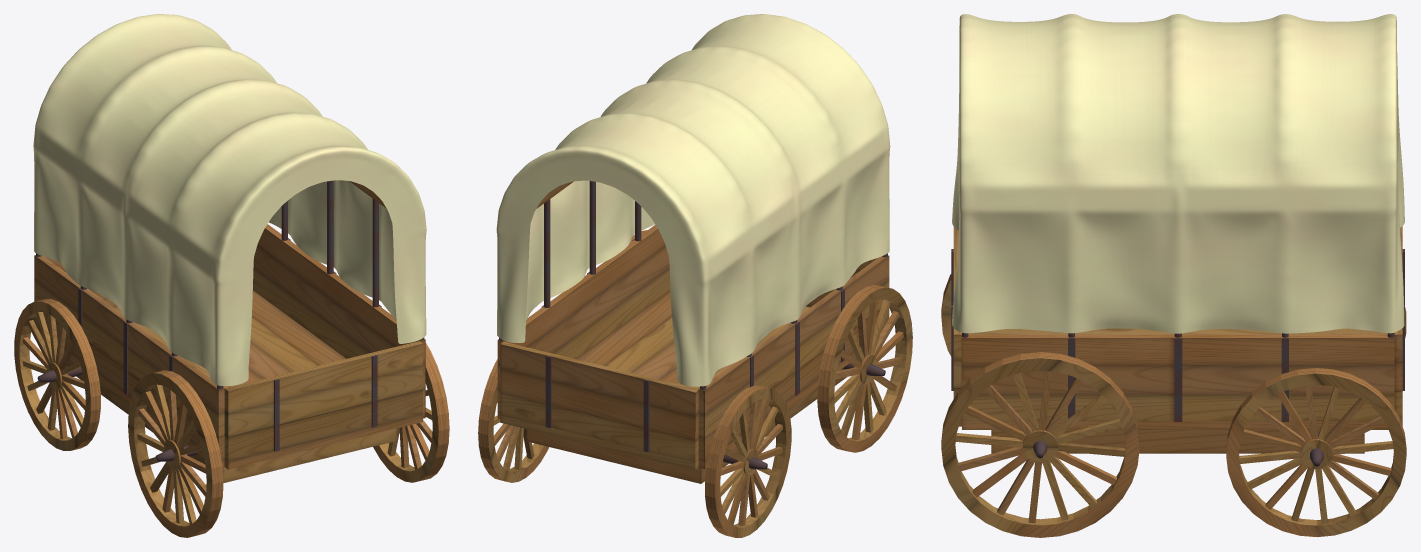
Rendered from wagon.gltf.
The picture shows the model from 3 angles, left to right: view 1: azimuth 30°, elevation 25°; view 2: azimuth 150°, elevation 25°; view 3: azimuth 270°, elevation 25°; orthographic projection. The views are drawn at different scales.
Visible parts, largest first — view 1: Object_5, Object_2, Object_3, Object_4; view 2: Object_5, Object_3, Object_2, Object_4; view 3: Object_3, Object_5, Object_2, Object_4.
Part boxes in pixels (bbox=[...]): Object_5: bbox=[14, 180, 449, 537]; Object_2: bbox=[49, 14, 426, 386]; Object_3: bbox=[33, 16, 426, 319]; Object_4: bbox=[40, 60, 321, 257]; Object_5: bbox=[478, 181, 912, 537]; Object_3: bbox=[498, 15, 802, 386]; Object_2: bbox=[496, 14, 890, 376]; Object_4: bbox=[497, 20, 809, 380]; Object_3: bbox=[961, 14, 1404, 333]; Object_5: bbox=[941, 226, 1406, 537]; Object_2: bbox=[952, 14, 1397, 333]; Object_4: bbox=[965, 14, 1404, 331].
Bounding box in the file's own units: 5.68 × 7.76 × 7.4.
2 materials, 2 textured.
